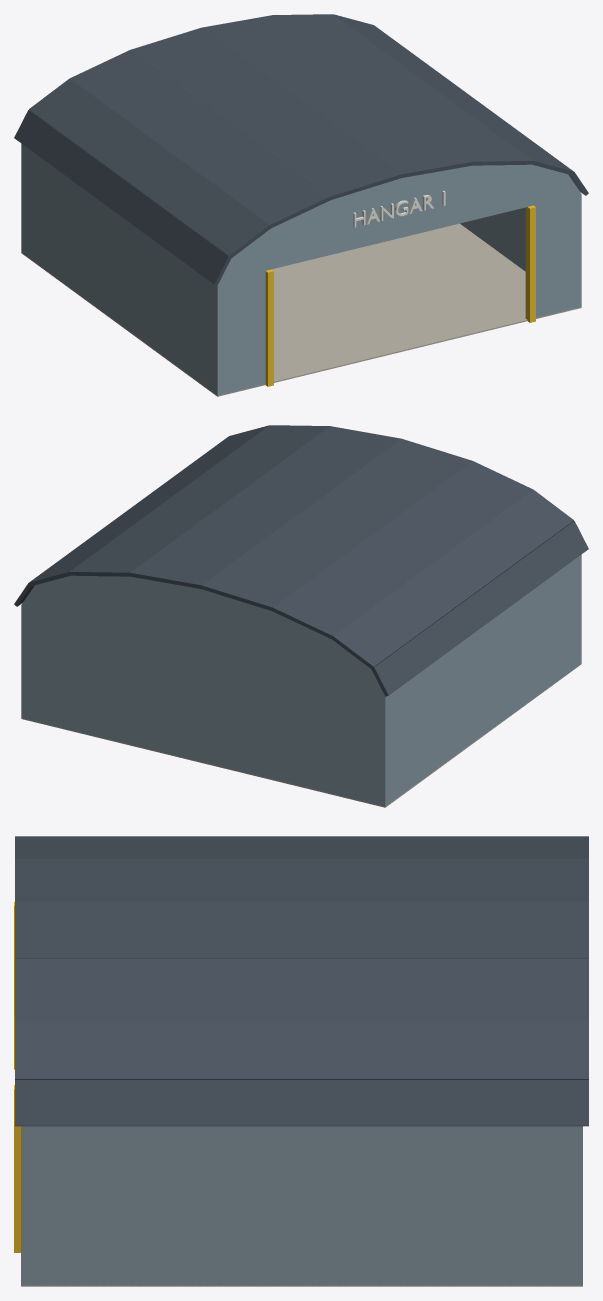
Rendered from hangar.glb.
3 renders of one model, top to bottom at view 1: azimuth 30°, elevation 25°; view 2: azimuth 150°, elevation 25°; view 3: azimuth 270°, elevation 25°, orthographic. The views are drawn at different scales.
Parts seen in each view (by area): view 1: hangar; view 2: hangar; view 3: hangar.
Boxes of the visible parts, x1,y1,x2,y2 form: hangar: (14, 14, 588, 396); hangar: (14, 425, 588, 807); hangar: (14, 836, 588, 1286).
Size of what is drawn, in the model's own units: 30.88 by 14.15 by 28.65.
